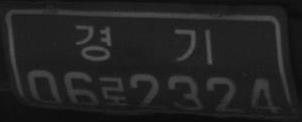0: (26, 68, 63, 104)
2: (205, 75, 244, 114), (129, 71, 164, 110)
3: (166, 73, 203, 112)
4: (249, 76, 283, 114)
6: (63, 69, 101, 108)
경기_D: (73, 23, 214, 66)
로: (101, 75, 129, 107)
